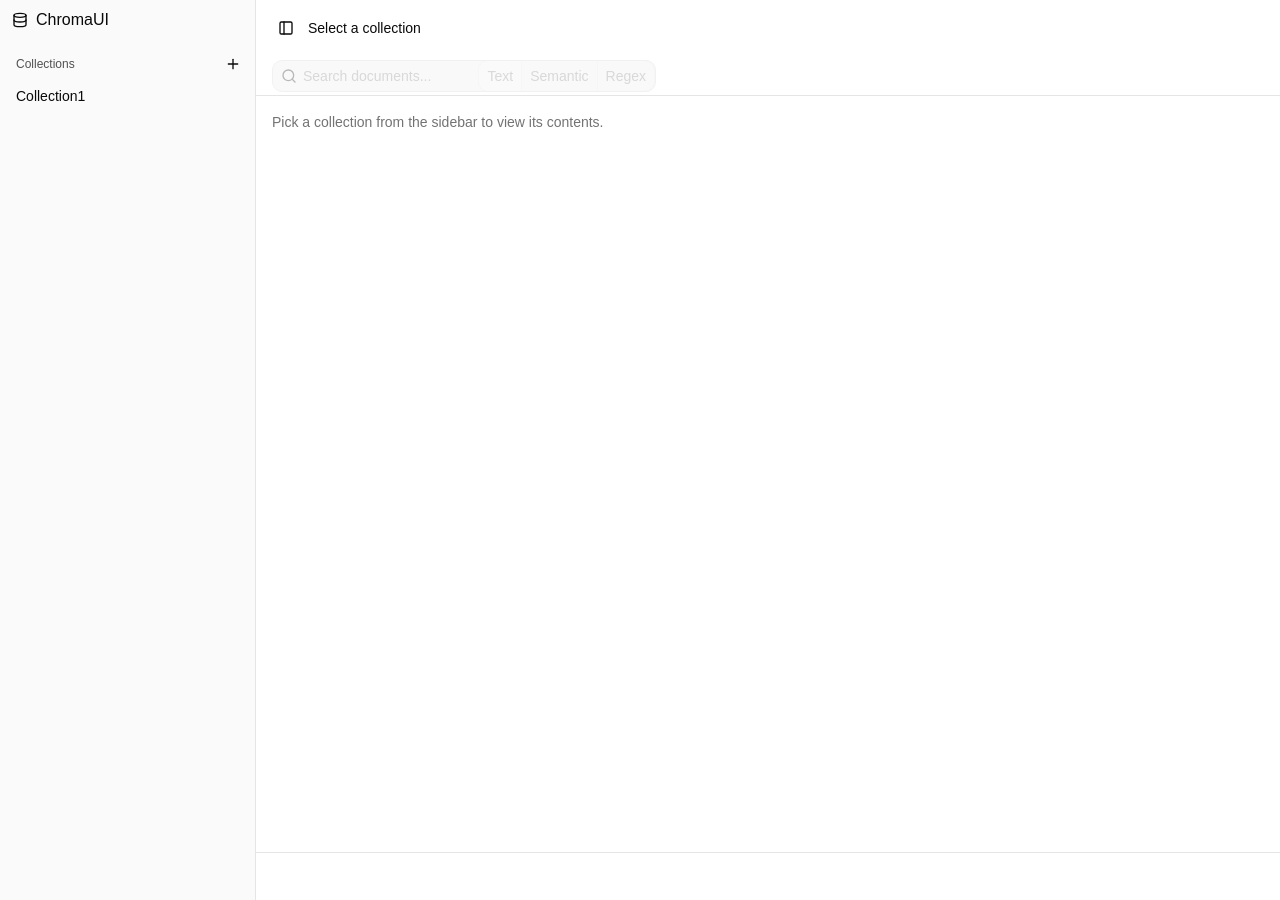
Search End to End › reverts to the items list when search input is cleared
Click the button "Collection1" at (128, 96), box [8,80,247,112]
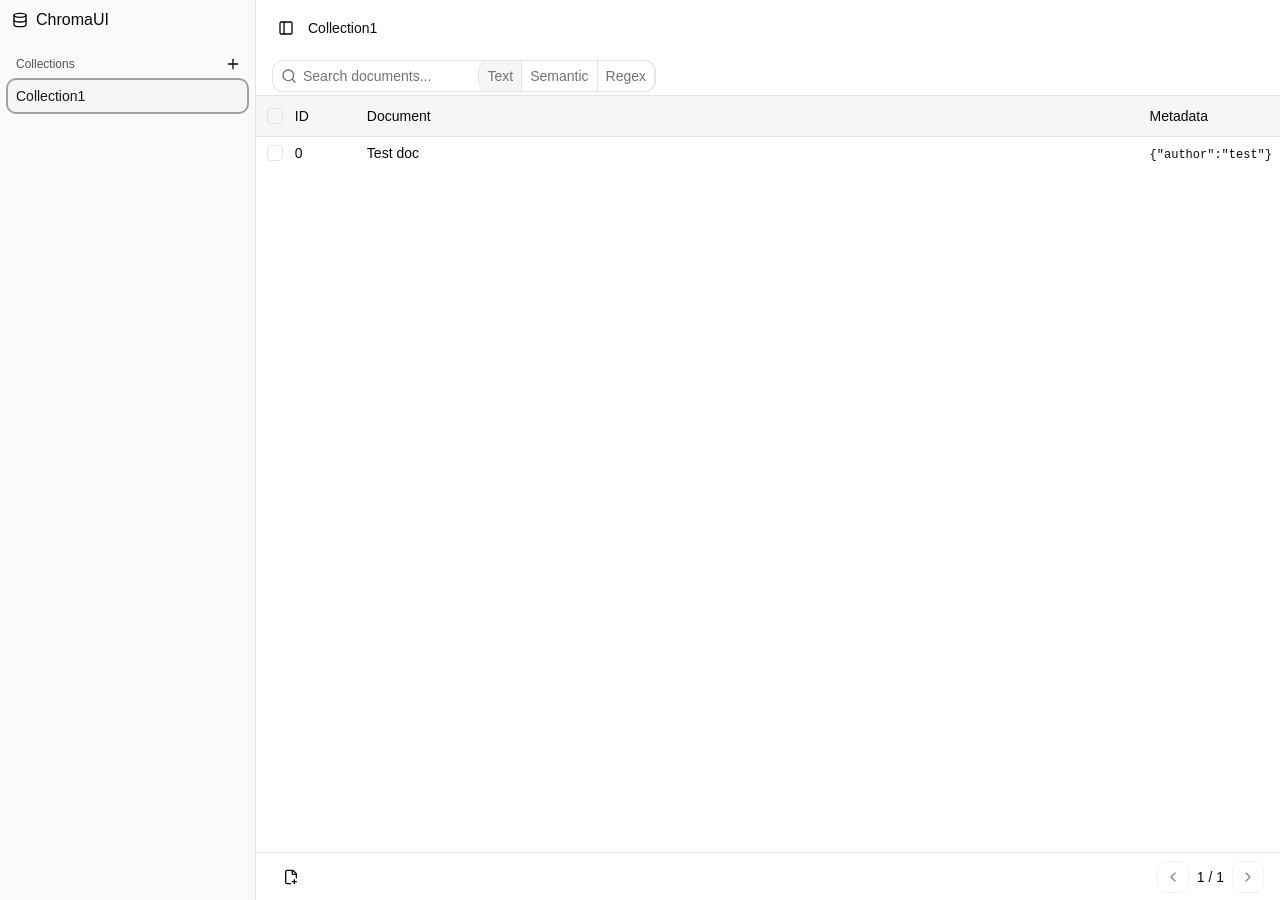
Check: the text "Test doc" is shown, box [367,144,419,160]
Type "found" into the field with placeholder "Search documents..." at (388, 76), box [297,60,478,92]
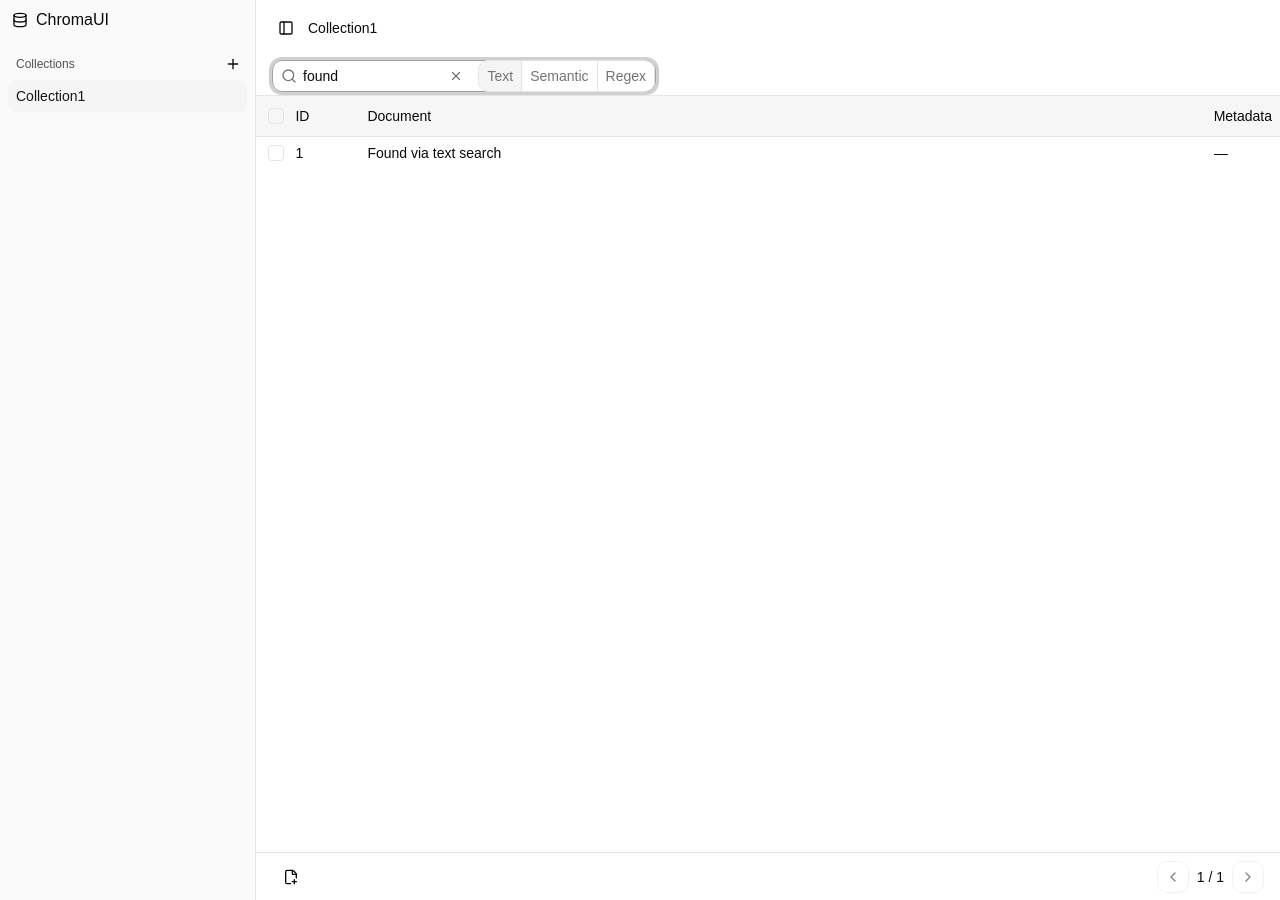
Check: the text "Found via text search" is shown, box [367,144,501,160]
Click the button named "clear search" at (456, 76), box [442,64,470,88]
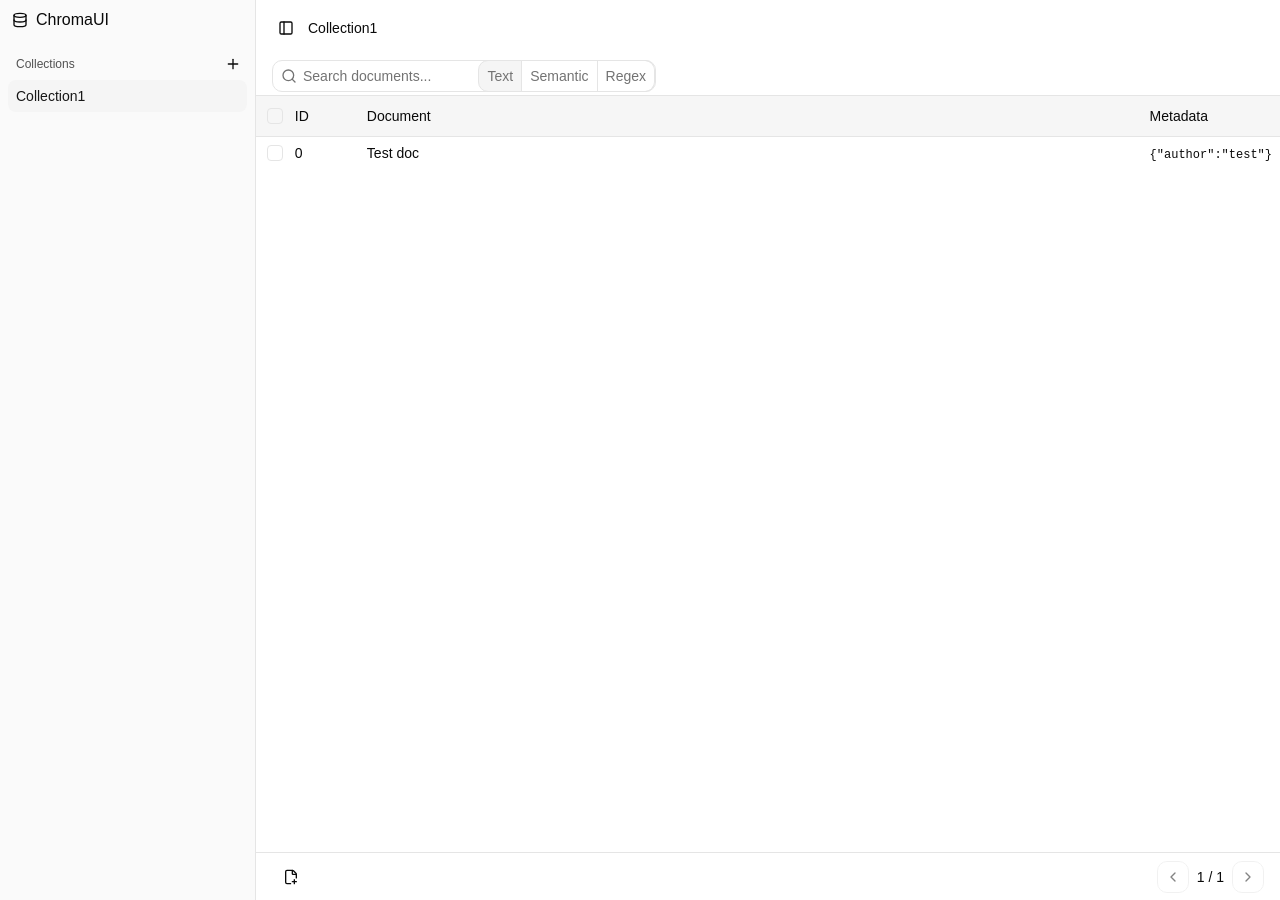
Check: the text "Test doc" is shown, box [367,144,419,160]
Check: the text "Found via text search" is gone
